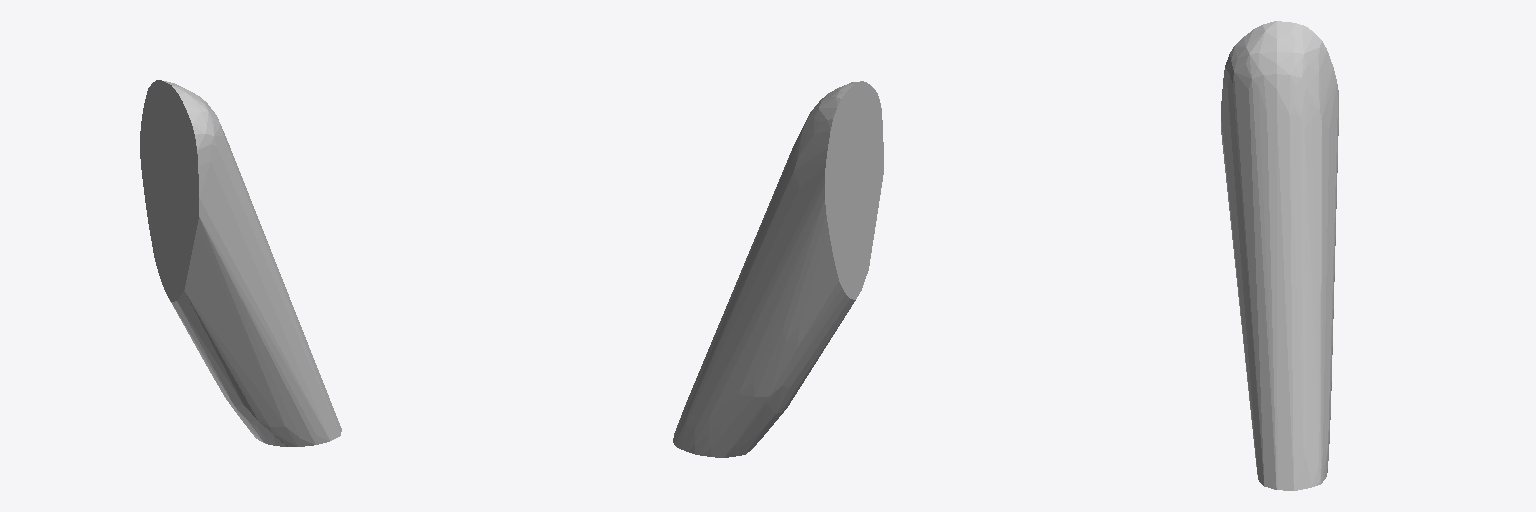
File: woman_collision_8.obj
3 renders of one model, left to right at view 1: azimuth 30°, elevation 25°; view 2: azimuth 150°, elevation 25°; view 3: azimuth 270°, elevation 25°, orthographic.
Size of the model in its own units: 21.08 by 45.05 by 12.58.